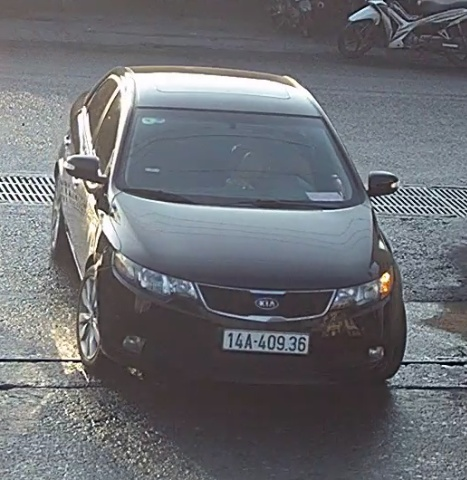vehicle plate: (221, 321, 317, 360)
